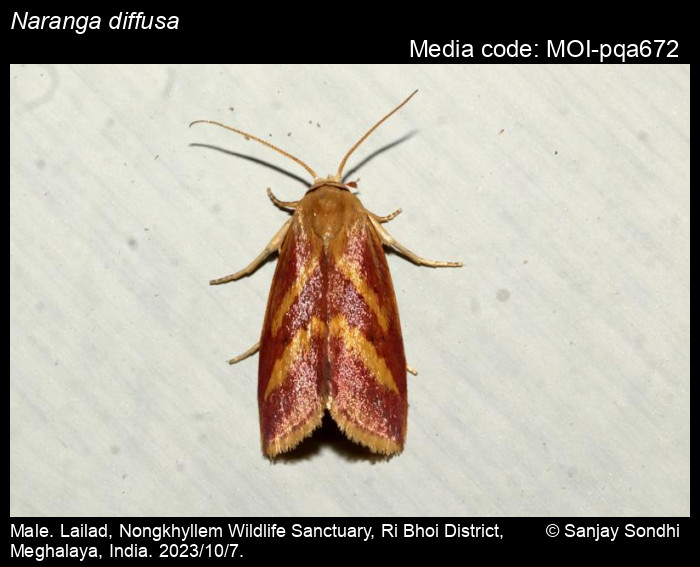Noctuidae: (189, 83, 463, 461)
